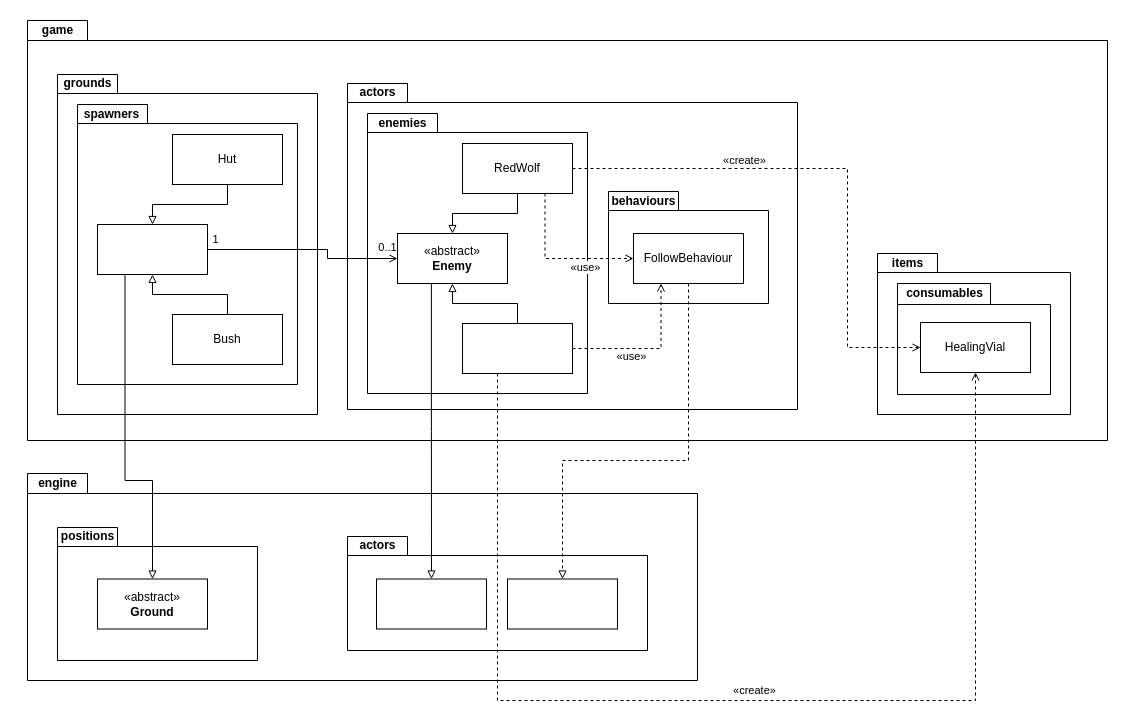
The diagram is 1125 pixels wide and 726 high, and some of its shapes have lost their labels. The shapes that lost their labels are listed below. From the top down, each one's box as (x1, y1, x2, y2) in pixels, then its label:
(96, 224, 208, 274): «abstract» EnemySpawner
(462, 322, 572, 374): ForestKeeper
(376, 578, 486, 629): «abstract» Actor
(506, 578, 618, 629): «interface» Behaviour
